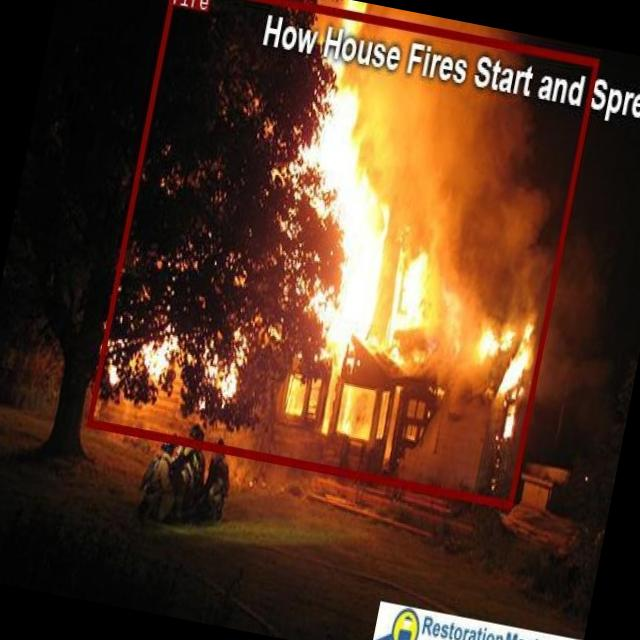fire: (87, 0, 599, 507)
